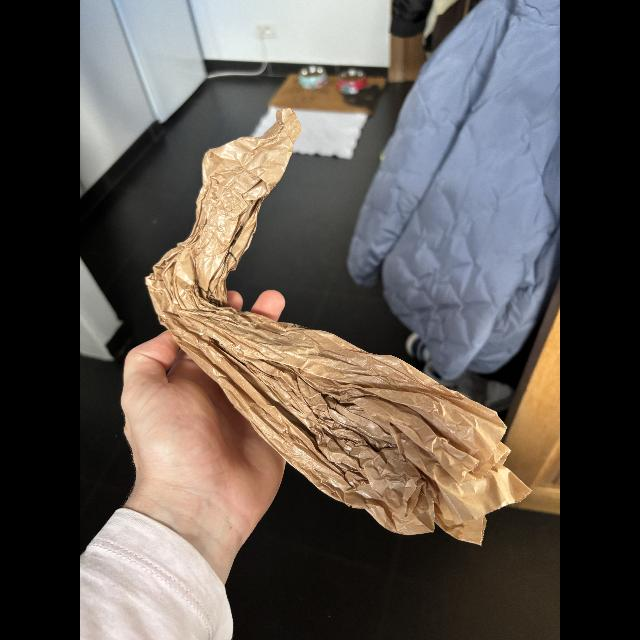Paper: (143, 101, 535, 548)
